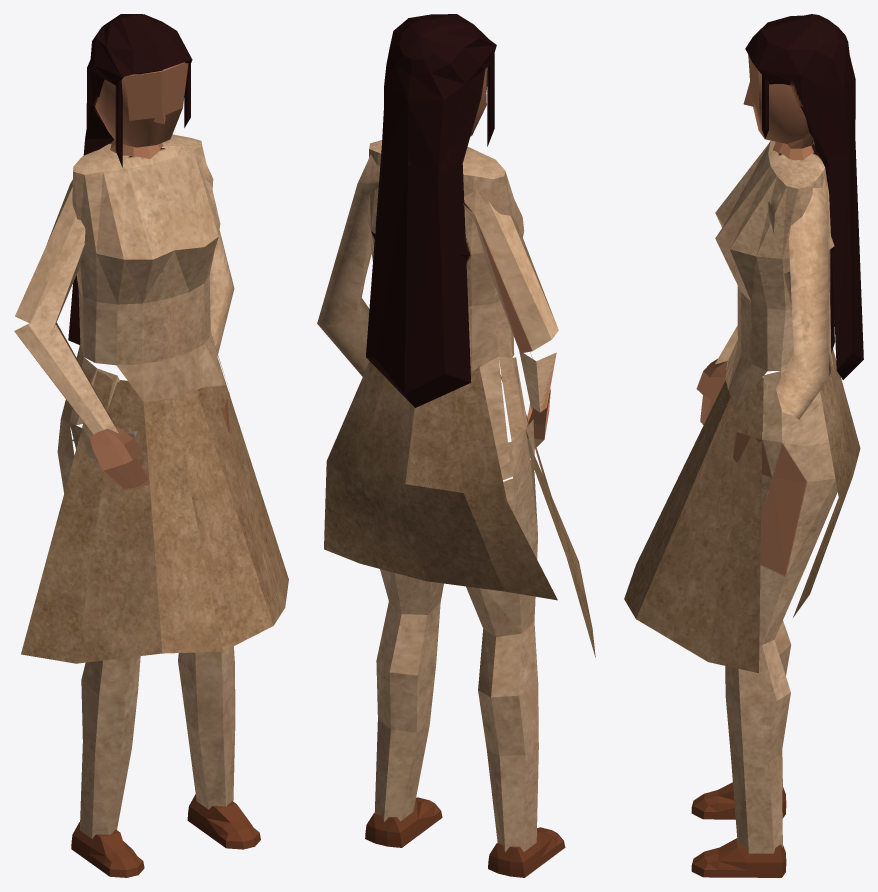
3 renders of one model, left to right at view 1: azimuth 30°, elevation 25°; view 2: azimuth 150°, elevation 25°; view 3: azimuth 270°, elevation 25°, orthographic. The views are drawn at different scales.
Parts seen in each view (by area): view 1: Torso; view 2: Torso; view 3: Torso.
Boxes of the visible parts, x1,y1,x2,y2 form: Torso: (14, 14, 288, 877); Torso: (317, 14, 595, 877); Torso: (624, 14, 863, 877).
Size of the model in its own units: 314 by 911 by 241.
1 material, 1 textured.
